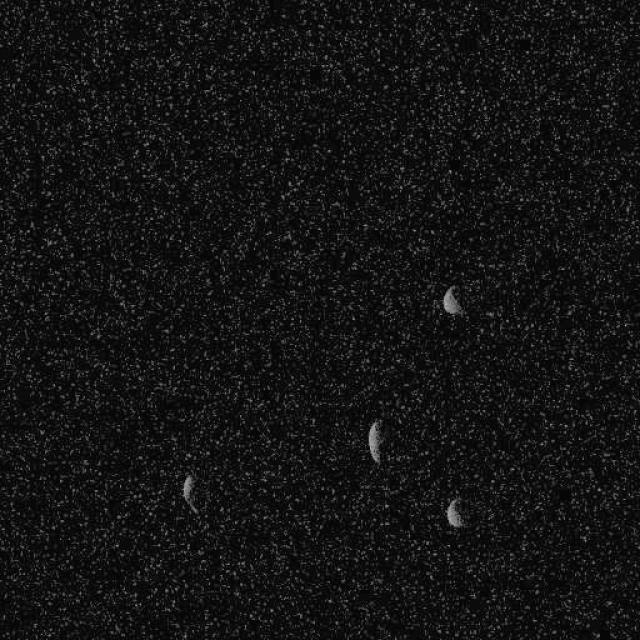D2: (180, 473, 200, 515), (443, 496, 468, 529), (366, 418, 384, 463), (442, 284, 462, 315)
